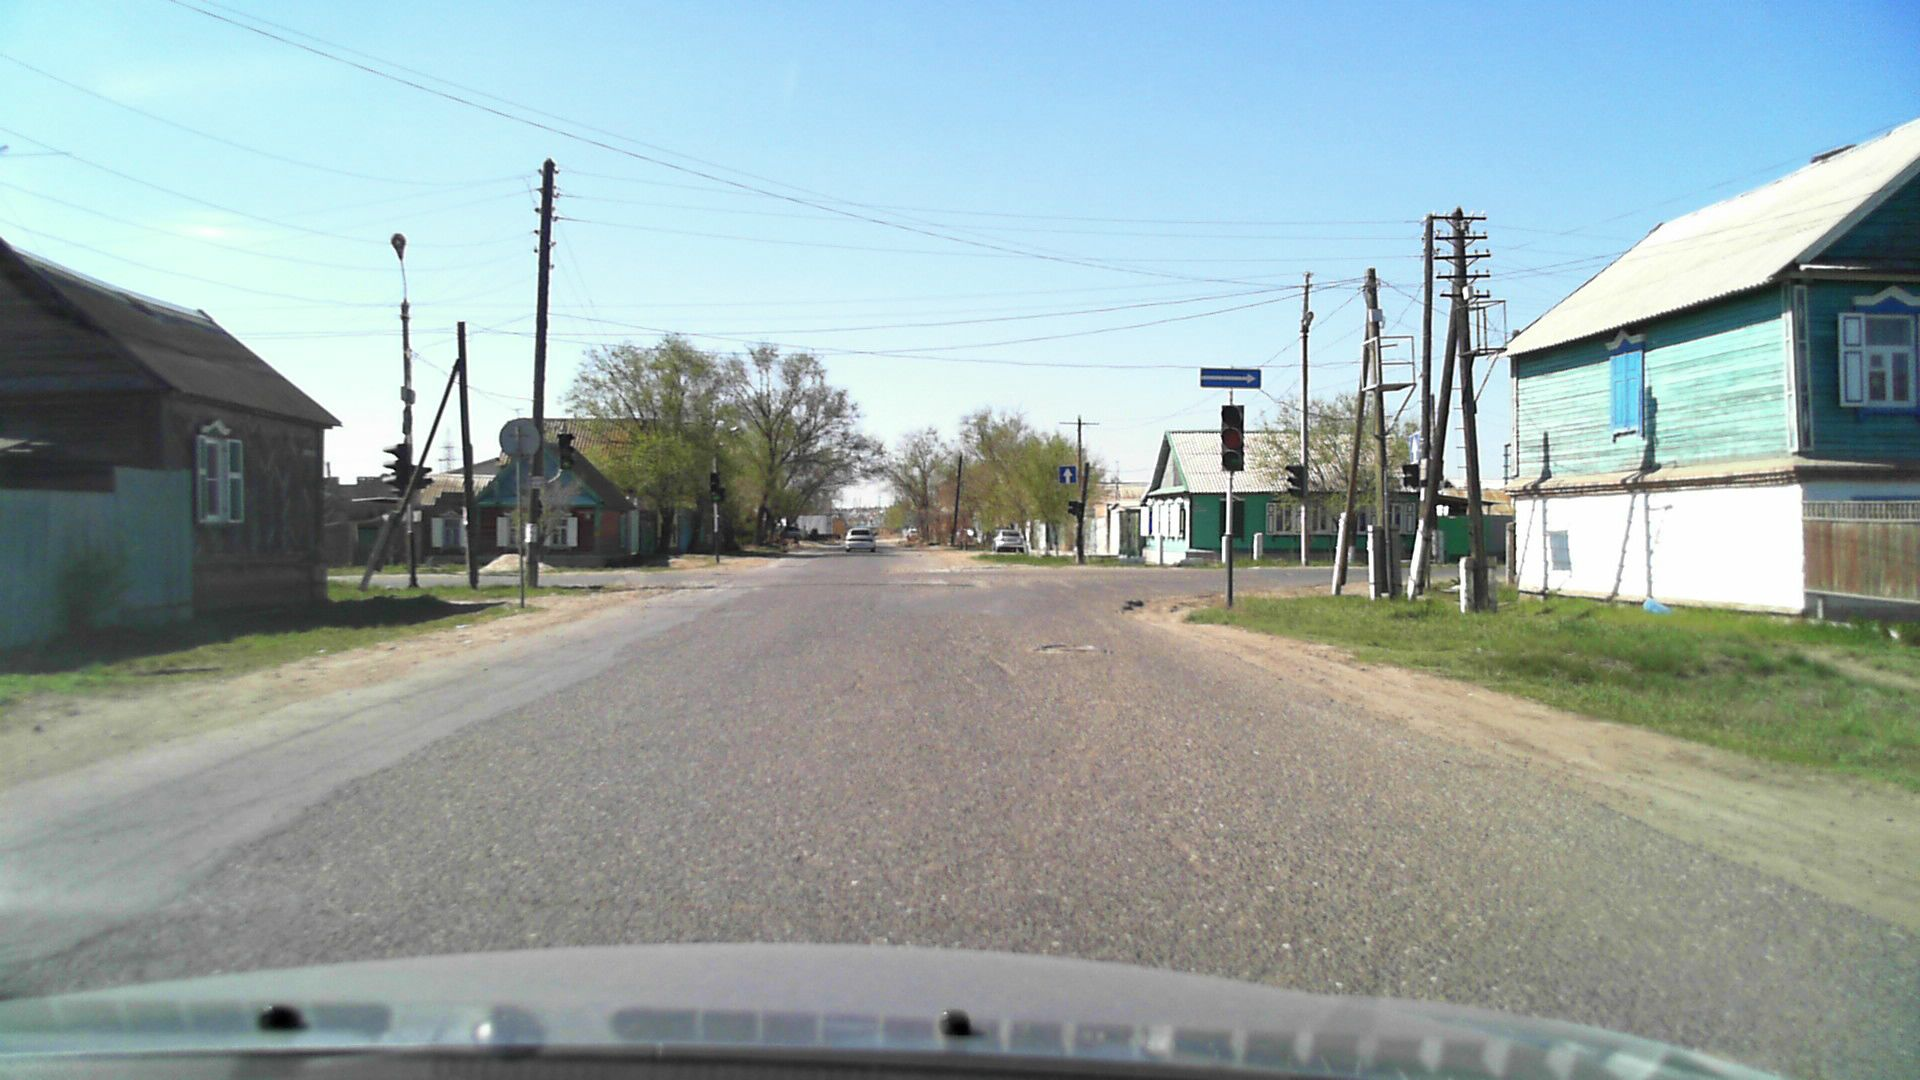One-Way Traffic: (1200, 367, 1262, 389)
